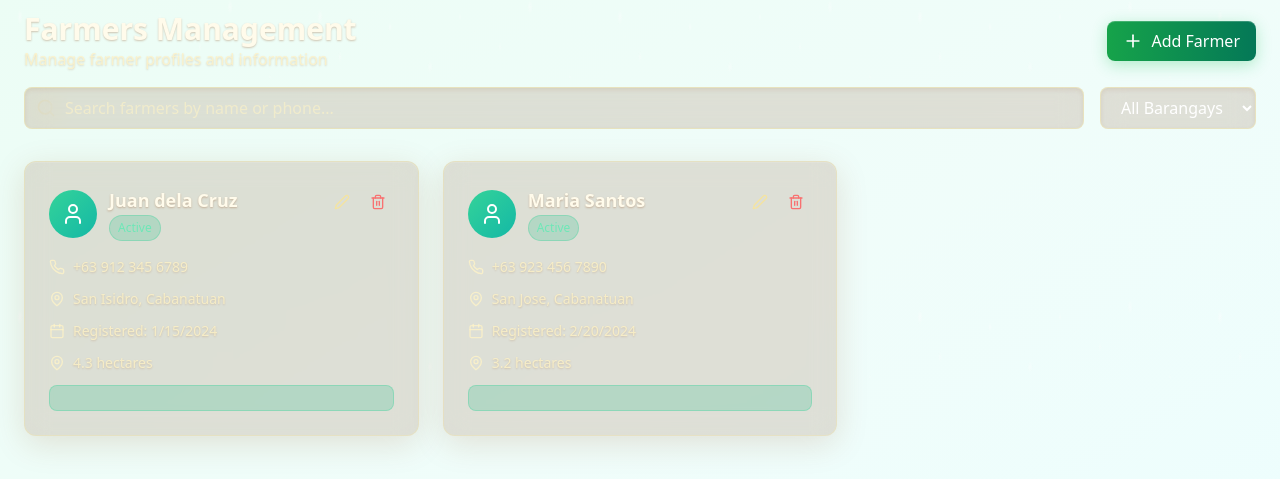
it: FarmersManager › Search and Filter › filters farmers by phone number
In the field with placeholder "Search farmers by name or phone...": [554, 108] box x1=24 y1=87 x2=1084 y2=129, type "923"
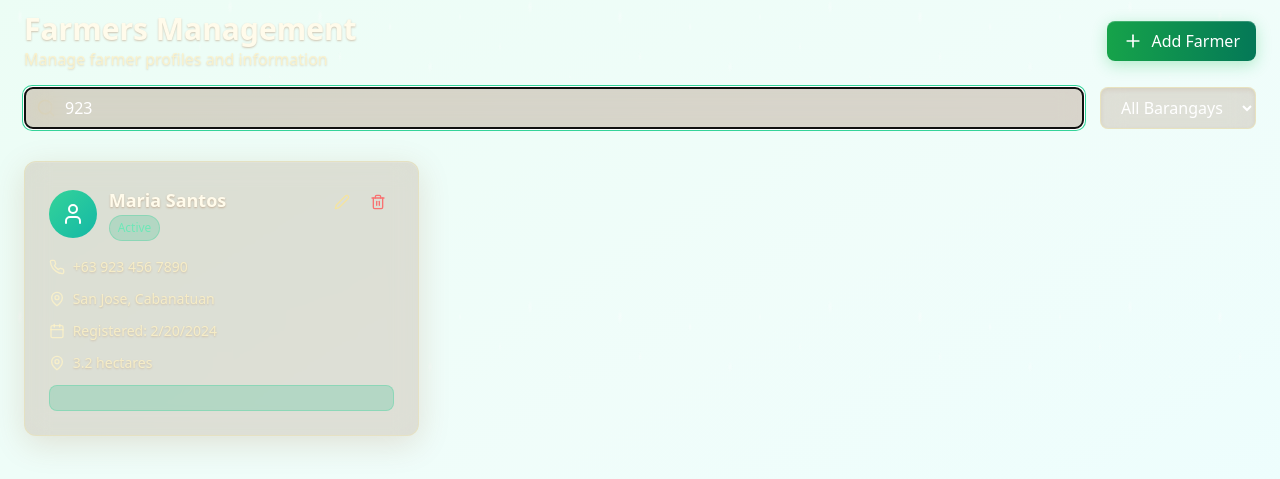
Check: the heading "Maria Santos" is shown, box x1=109 y1=186 x2=227 y2=214
Check: the heading "Juan dela Cruz" is gone
